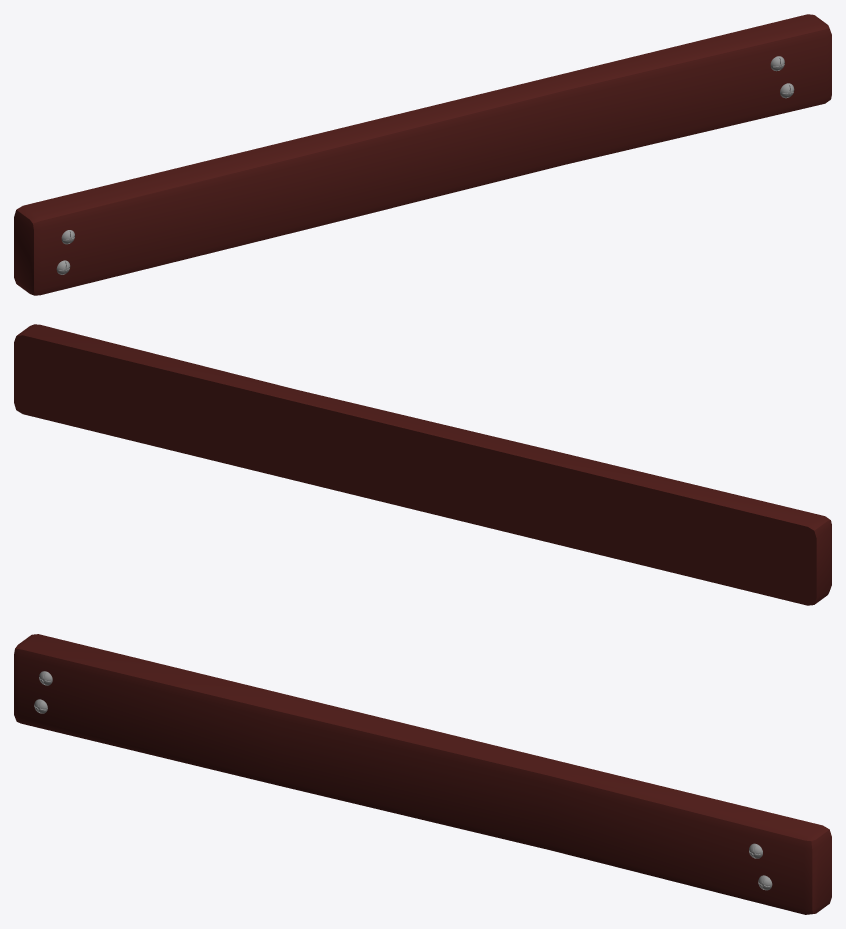
File: wood_wall.FBX
3 views of the same model, one above another, from view 1: azimuth 30°, elevation 25°; view 2: azimuth 150°, elevation 25°; view 3: azimuth 330°, elevation 25° (orthographic).
Visible parts, largest first — view 1: wood_wall; view 2: wood_wall; view 3: wood_wall.
Part boxes in pixels (x1,y1,x2,y2): wood_wall: [14, 14, 831, 295]; wood_wall: [14, 324, 831, 605]; wood_wall: [14, 634, 831, 914].
Bounding box in the file's own units: 83.52 × 7.85 × 3.86.
